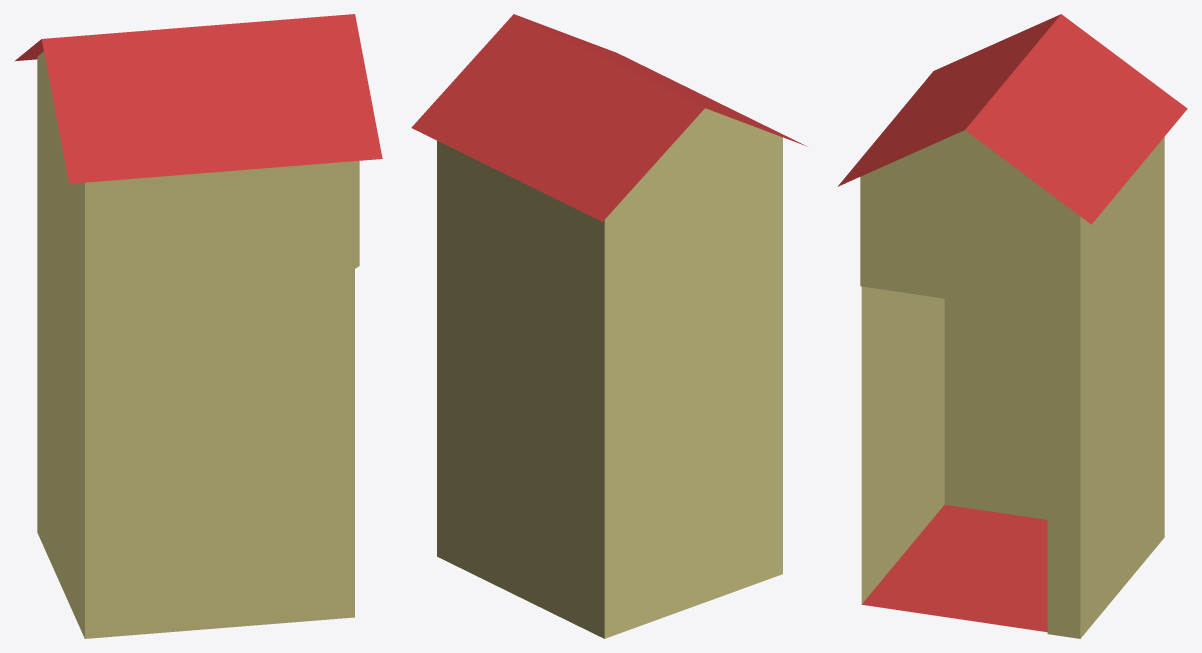
3 views of the same model, side by side, from view 1: azimuth 30°, elevation 25°; view 2: azimuth 150°, elevation 25°; view 3: azimuth 270°, elevation 25° (orthographic). The views are drawn at different scales.
Bounding box in the file's own units: 10.08 × 9.71 × 15.28.
